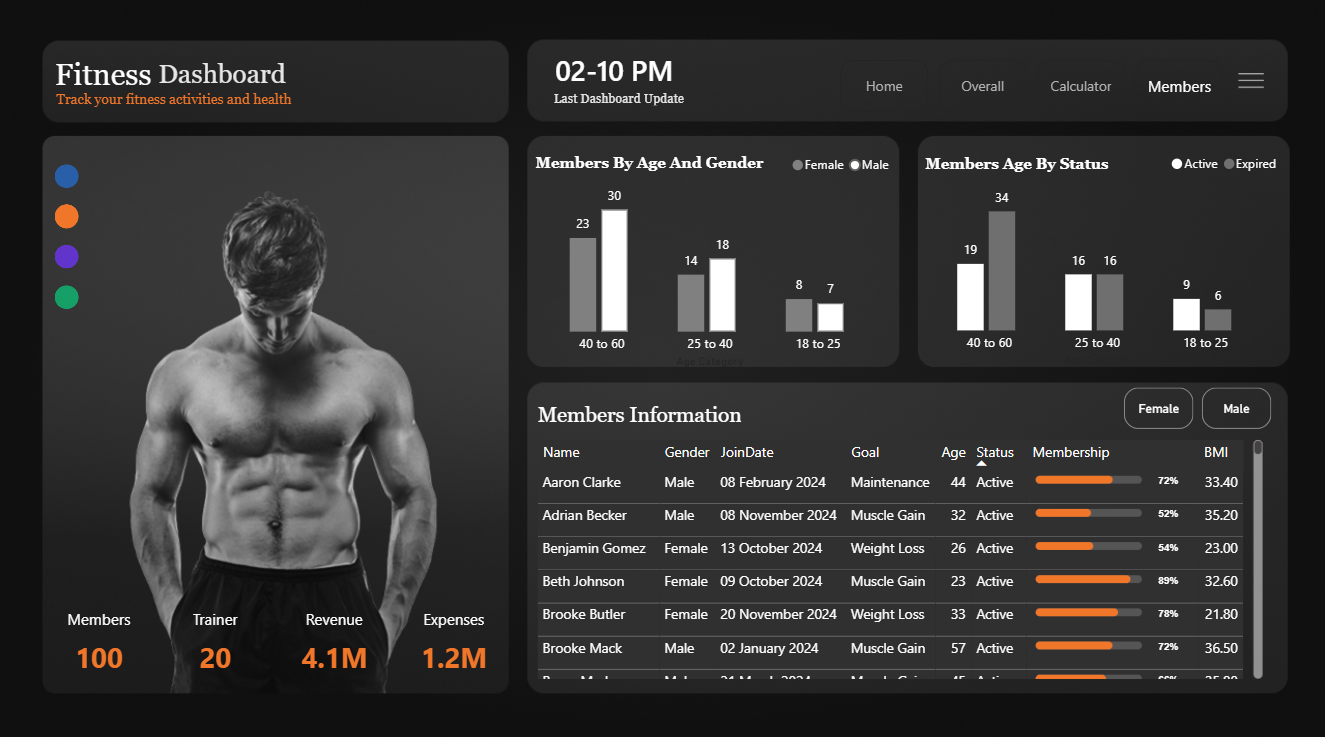

Layout of this report page (visuals, bound fields, positions):
{"tool":"powerbi","page":{"name":"Members","canvas":[1280,720],"ordinal":3},"visuals":[{"type":"image","box":[1185,62.5,48.8,41.2],"z":0},{"type":"shape","box":[51.9,55.5,97.7,41],"z":1000},{"type":"shape","box":[146,55.5,138.7,41],"z":2000},{"type":"shape","box":[527.2,50.7,132.7,41],"z":3000},{"type":"shape","box":[535.7,92.9,132.7,20.5],"z":4000},{"type":"pageNavigator","box":[811.9,62.7,372.8,50.7],"z":5000},{"type":"tableEx","fields":{"Values":["Users.UserName","Users.Gender","Users.JoinDate","Users.Goal","Users.Age","Users.Status","_Measure.SVG_BarChart1","Users.BMI"]},"box":[513.9,424.7,710.6,240.1],"z":6000},{"type":"shape","box":[513.9,383.6,208.7,41],"z":7000},{"type":"advancedSlicerVisual","fields":{"Values":["Users.Gender"]},"box":[1081,374,152,50.7],"z":8000},{"type":"clusteredColumnChart","fields":{"Category":["Users.Age Category"],"Series":["Users.Gender"],"Y":["CountNonNull(Users.Age Category)"]},"box":[509.1,142.4,359.5,217.2],"z":9000},{"type":"shape","box":[516.4,141.2,223.2,41],"z":10000},{"type":"clusteredColumnChart","fields":{"Category":["Users.Age Category"],"Y":["CountNonNull(Users.Age Category)"],"Series":["Users.Status"]},"box":[883.1,141.2,359.5,217.2],"z":11000},{"type":"shape","box":[894,142.4,191.8,41],"z":12000},{"type":"advancedSlicerVisual","fields":{"Values":["ColorCodes.Icon"]},"box":[47.1,154.4,37.4,154.4],"z":13000},{"type":"cardVisual","fields":{"Data":["_Measure.Users_Count"]},"box":[46.7,575,99,89],"z":14000},{"type":"cardVisual","fields":{"Data":["Count(Users.Trainer Name)"]},"box":[159.6,575,99,89],"z":15000},{"type":"cardVisual","fields":{"Data":["_Measure.Revenue"]},"box":[273.1,575,102.9,89.2],"z":16000},{"type":"cardVisual","fields":{"Data":["_Measure.Expenses"]},"box":[386.1,575.5,106.2,88.1],"z":17000},{"type":"shape","box":[54.3,92.9,229.2,20.5],"z":18000}]}

Visuals, with their boxes in screenshot pixels (x1, y1, x2, y2), scaled from the page's 1280x720 canvas onto the 1325x737 screenshot:
image: 1227, 64, 1277, 106
shape: 54, 57, 155, 99
shape: 151, 57, 295, 99
shape: 546, 52, 683, 94
shape: 555, 95, 692, 116
pageNavigator: 840, 64, 1226, 116
tableEx - Users.UserName x Users.Gender: 532, 435, 1268, 680
shape: 532, 393, 748, 435
advancedSlicerVisual - Users.Gender: 1119, 383, 1276, 435
clusteredColumnChart - Users.Age Category x Users.Gender: 527, 146, 899, 368
shape: 535, 145, 766, 187
clusteredColumnChart - Users.Age Category x CountNonNull(Users.Age Category): 914, 145, 1286, 367
shape: 925, 146, 1124, 188
advancedSlicerVisual - ColorCodes.Icon: 49, 158, 87, 316
cardVisual - _Measure.Users_Count: 48, 589, 151, 680
cardVisual - Count(Users.Trainer Name): 165, 589, 268, 680
cardVisual - _Measure.Revenue: 283, 589, 389, 680
cardVisual - _Measure.Expenses: 400, 589, 510, 679
shape: 56, 95, 293, 116
